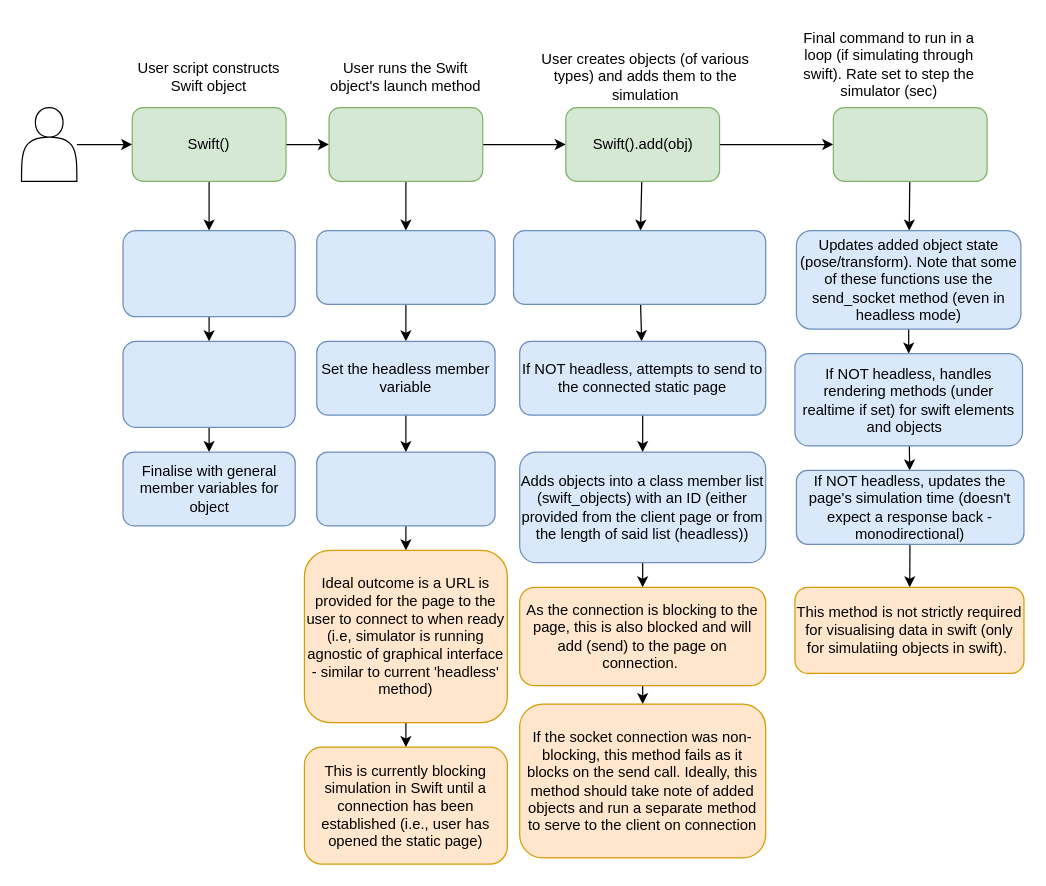
The diagram is 1046 pixels wide and 886 high, and some of its shapes have lost their labels. Each missing label, with the centre of its shape:
"Checks if the user has imported roboticstoolbox (raises exeption if not)" belongs at [208,383].
"If NOT headless, start a websocket connection and server (static page)" belongs at [405,488].
"Initialises Queues for in and out as member variables" belongs at [208,273].
"On call, the object is compared against expected types" belongs at [639,266].
"Set the comms member variable (str: rtc/websockets)" belongs at [405,266].
"Swift().launch()" belongs at [405,143].
"Swift().step(rate)" belongs at [909,143].
